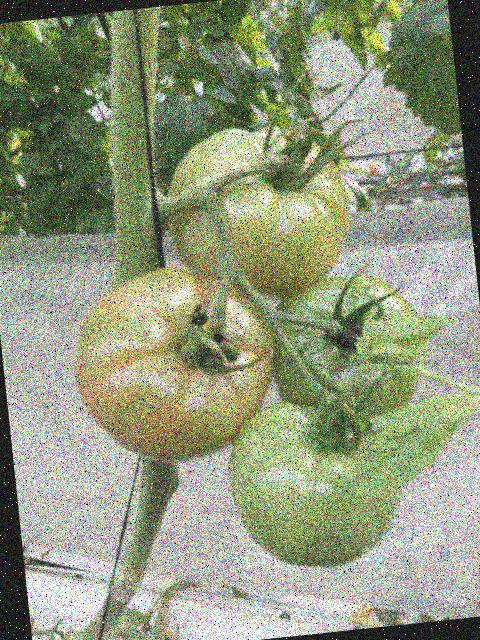b_green: (221, 390, 411, 577), (264, 266, 436, 426)
b_half_ripened: (65, 258, 284, 472), (159, 117, 360, 312)
